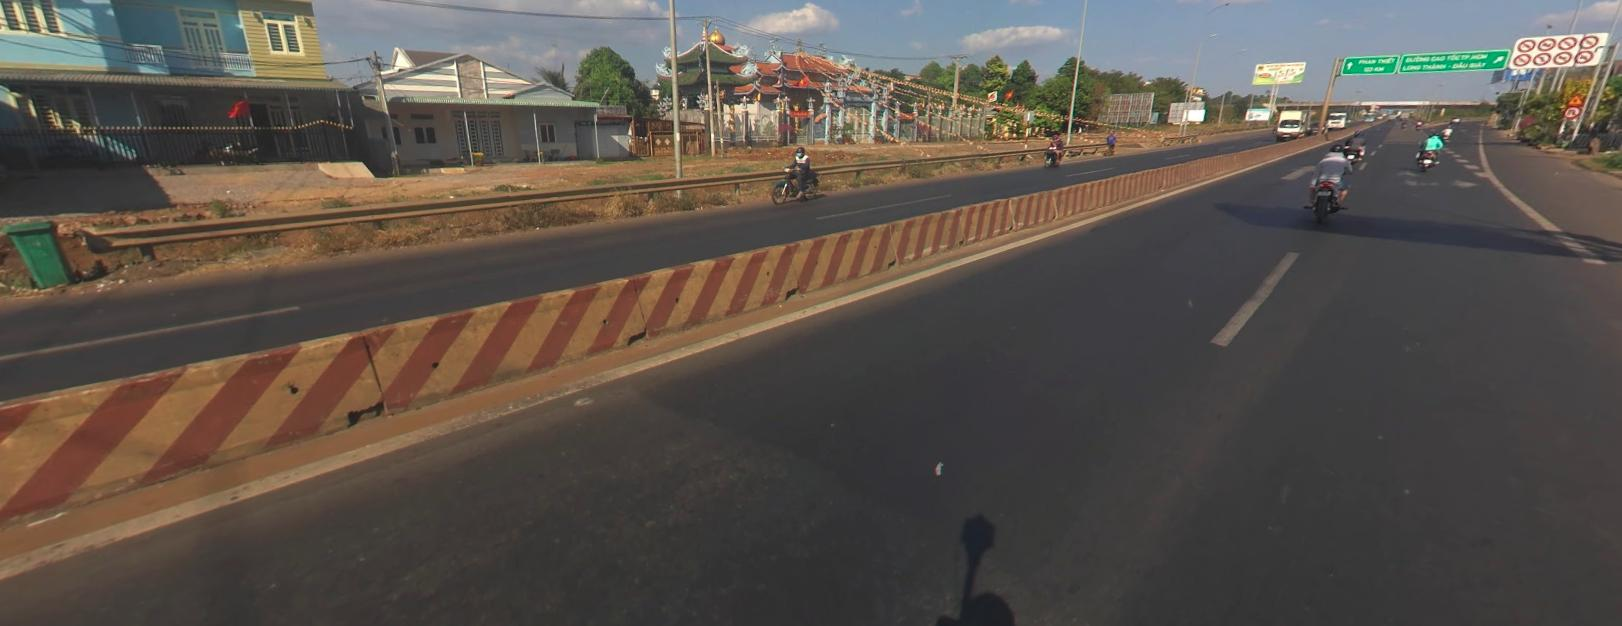Cam con lai: (1553, 51, 1572, 63), (1553, 51, 1571, 63), (1580, 35, 1599, 47), (1557, 36, 1576, 48), (1512, 53, 1530, 65), (1575, 50, 1593, 62), (1574, 50, 1592, 62), (1516, 39, 1535, 51), (1537, 37, 1556, 49), (1579, 35, 1597, 47), (1533, 52, 1550, 64), (1557, 37, 1576, 48), (1533, 52, 1551, 63), (1516, 39, 1534, 51), (1538, 37, 1555, 49), (1513, 53, 1530, 64)
Cam re: (1563, 105, 1579, 118), (1563, 106, 1580, 118)
Nguy hiem: (1567, 93, 1584, 105), (1567, 93, 1583, 105)
